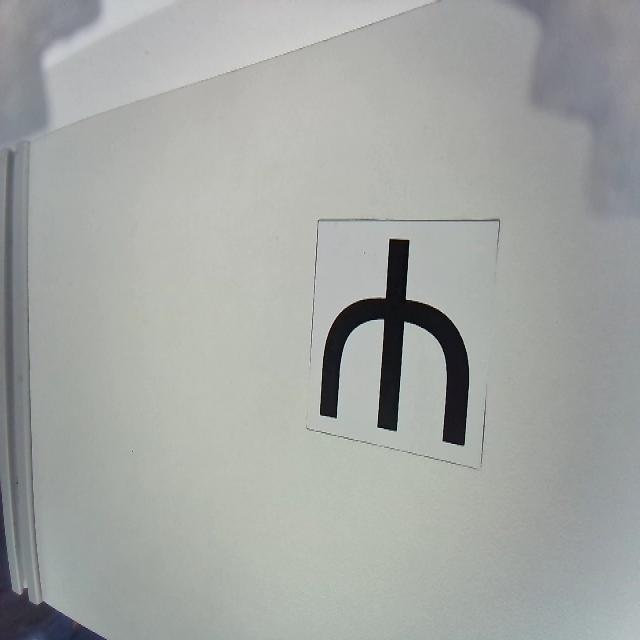nedoF: (319, 237, 472, 448)
